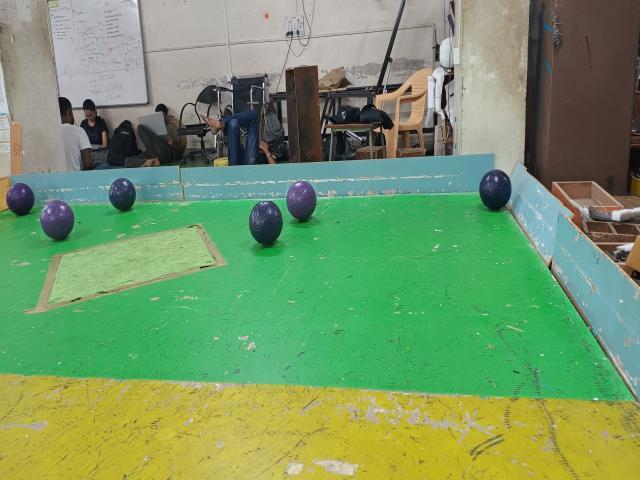jambhalya: (40, 200, 75, 240), (286, 181, 316, 221), (6, 184, 35, 215)
kaalyya: (249, 201, 282, 246), (479, 170, 511, 210), (110, 178, 137, 212)
